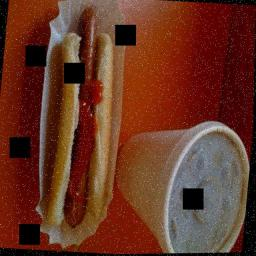hotdog: (47, 3, 122, 229)
